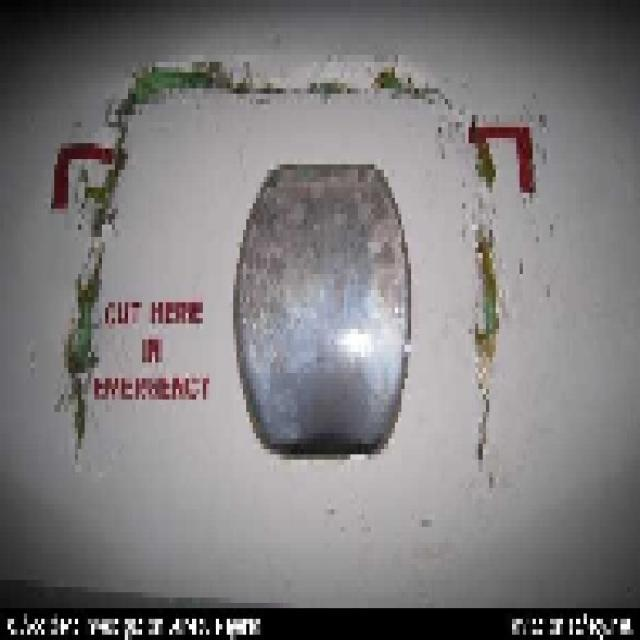crack: (53, 123, 129, 470), (110, 66, 465, 109), (471, 230, 501, 477)
